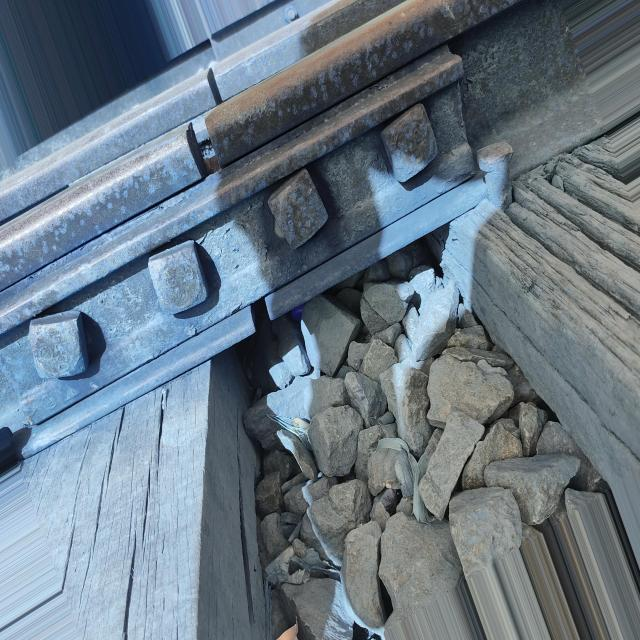crack: (173, 112, 237, 185), (188, 58, 253, 121)
